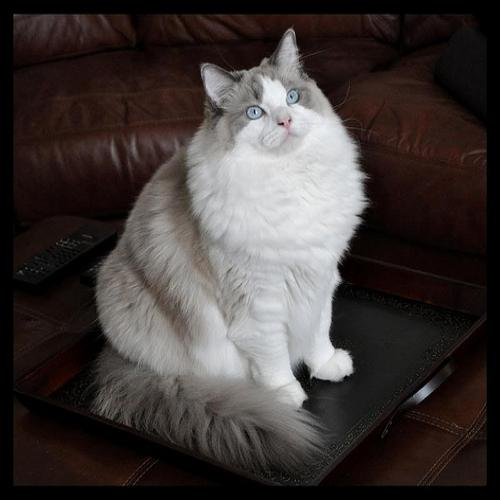ragdoll: (186, 28, 330, 163)
